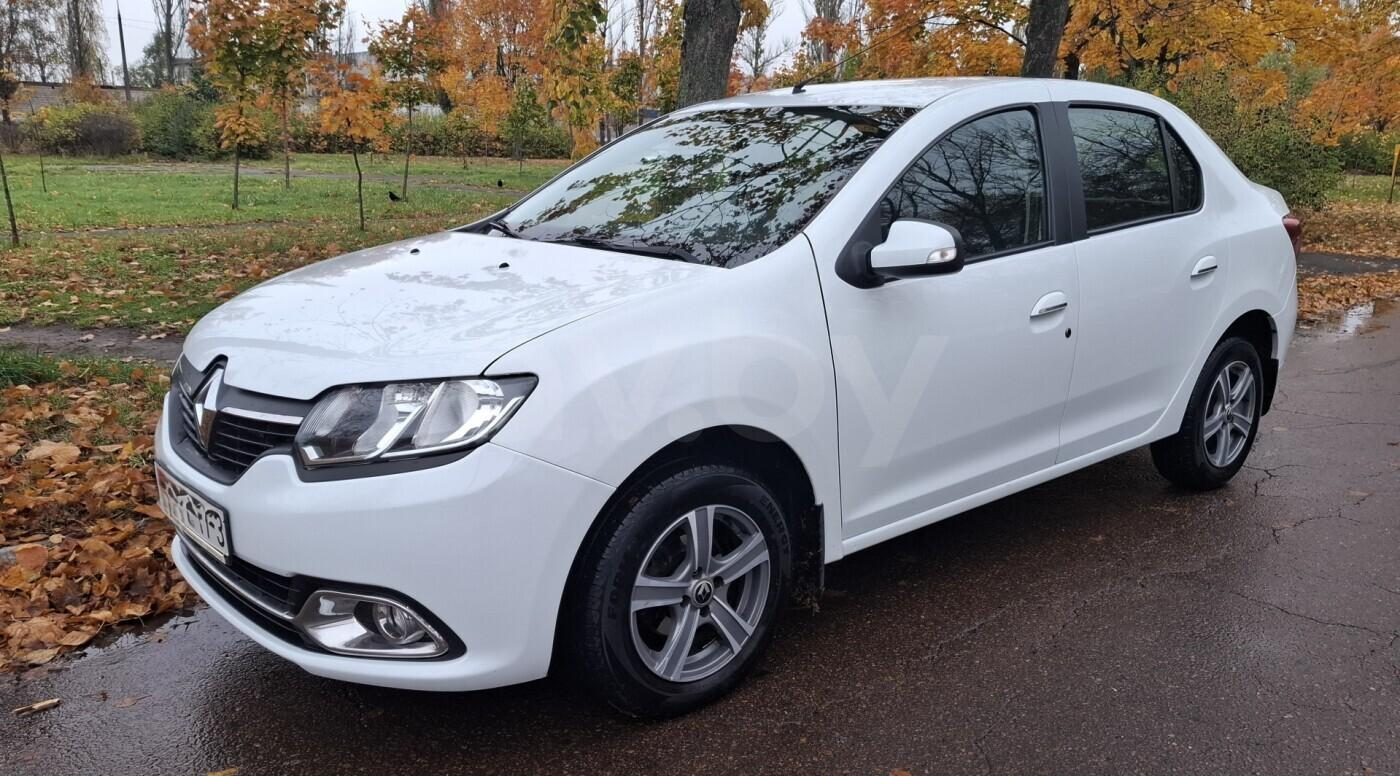Logan_2013-2018: (148, 67, 1300, 707)
